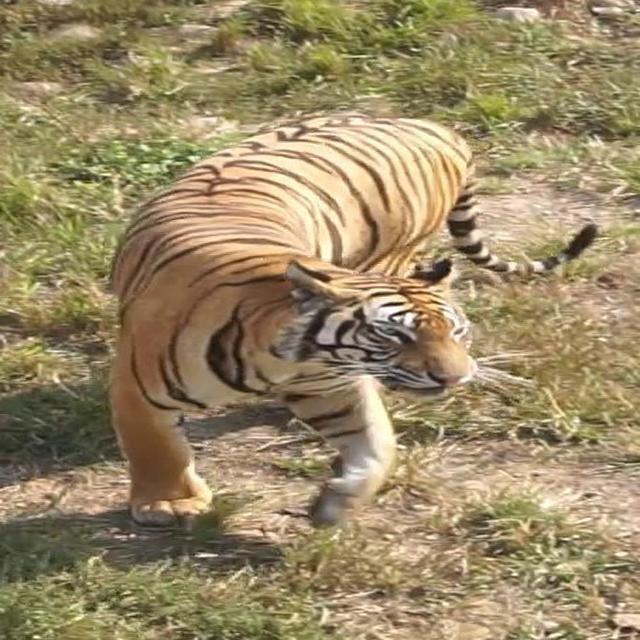tiger: (105, 108, 597, 532)
